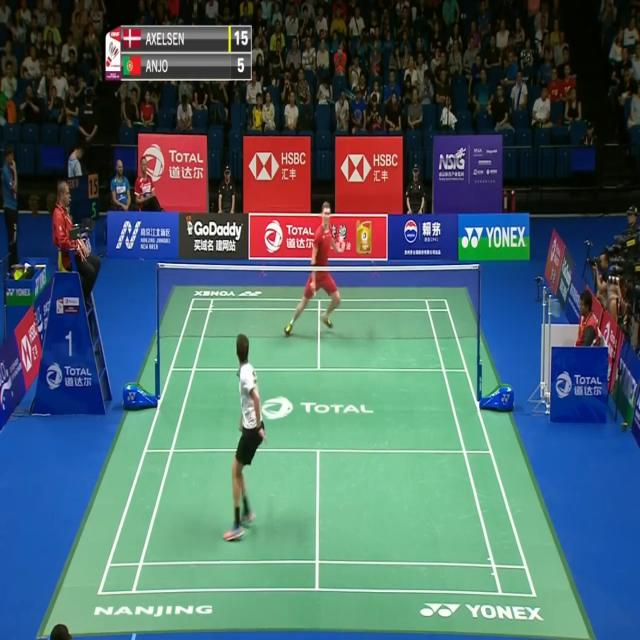Player1: (216, 327, 274, 549)
Player2: (275, 201, 359, 348)
